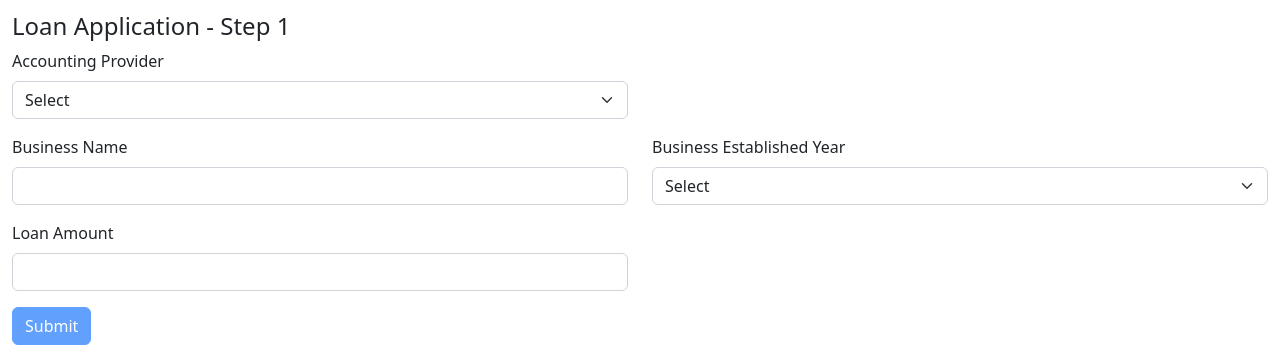
Scenario: pages/LoanApplication/LoanApplication › should able to submit the form (step 1)
Expected: the button with test id "submit-button" is shown, x1=12 y1=307 x2=91 y2=345
Select "MYOB" in the dropdown with test id "accounting-provider-select-input" at (320, 100), box x1=12 y1=81 x2=628 y2=119
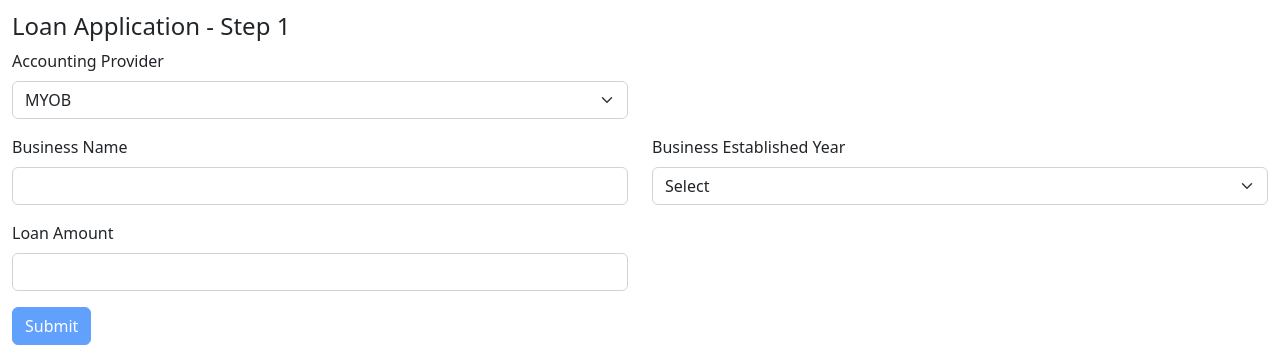
Type "My Business" into the field with test id "business-name-text-input" at (320, 186), box x1=12 y1=167 x2=628 y2=205
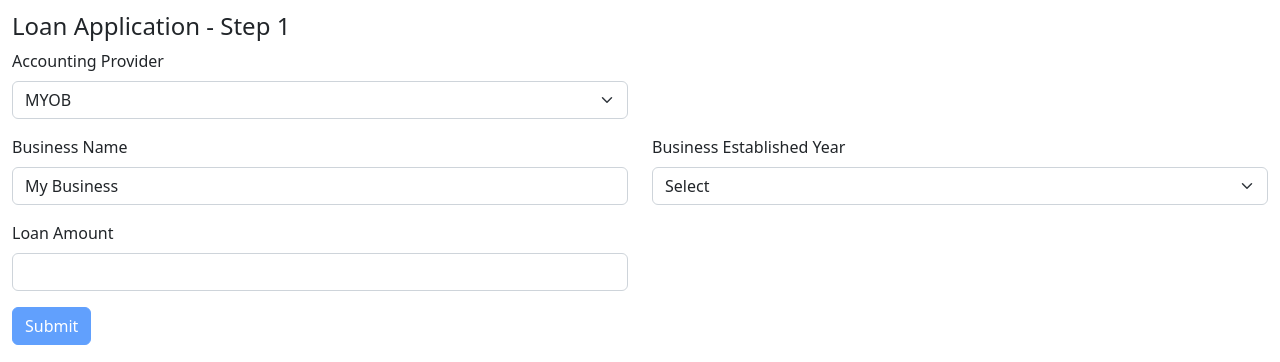
Select "2020" in the dropdown with test id "business-year-select-input" at (960, 186), box x1=652 y1=167 x2=1268 y2=205
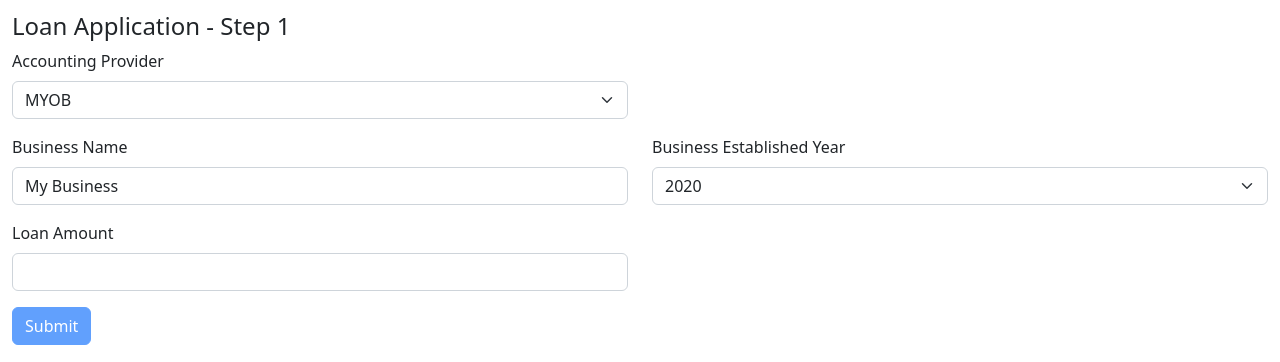
Type "100000" into the number field with test id "loan-amount-text-input" at (320, 272), box x1=12 y1=253 x2=628 y2=291
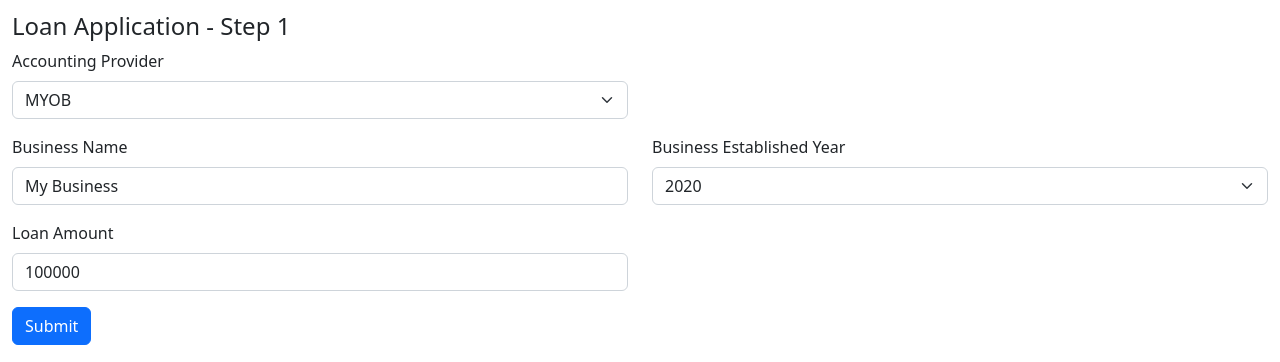
Click the button with test id "submit-button" at (52, 326), box x1=12 y1=307 x2=91 y2=345
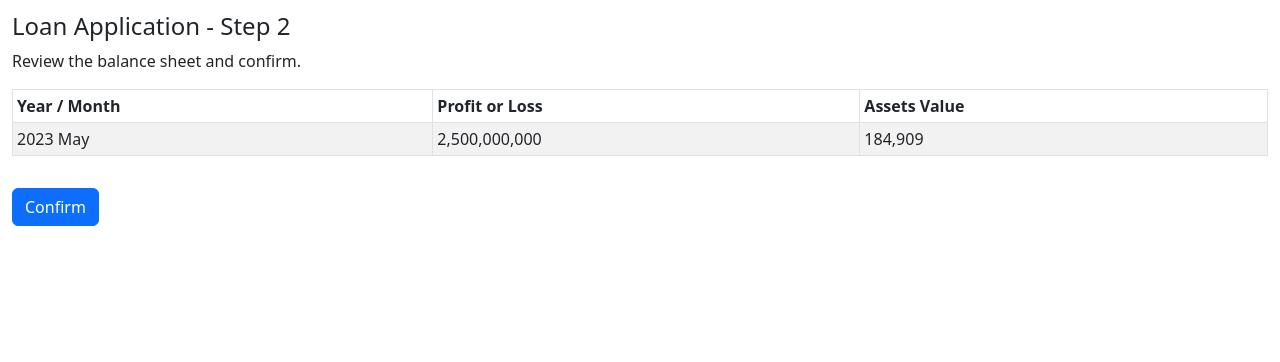
Expected: the text "2,500,000,000" is shown, x1=433 y1=122 x2=860 y2=155
Expected: the button with test id "submit-button" reads "Confirm", x1=12 y1=188 x2=99 y2=226
